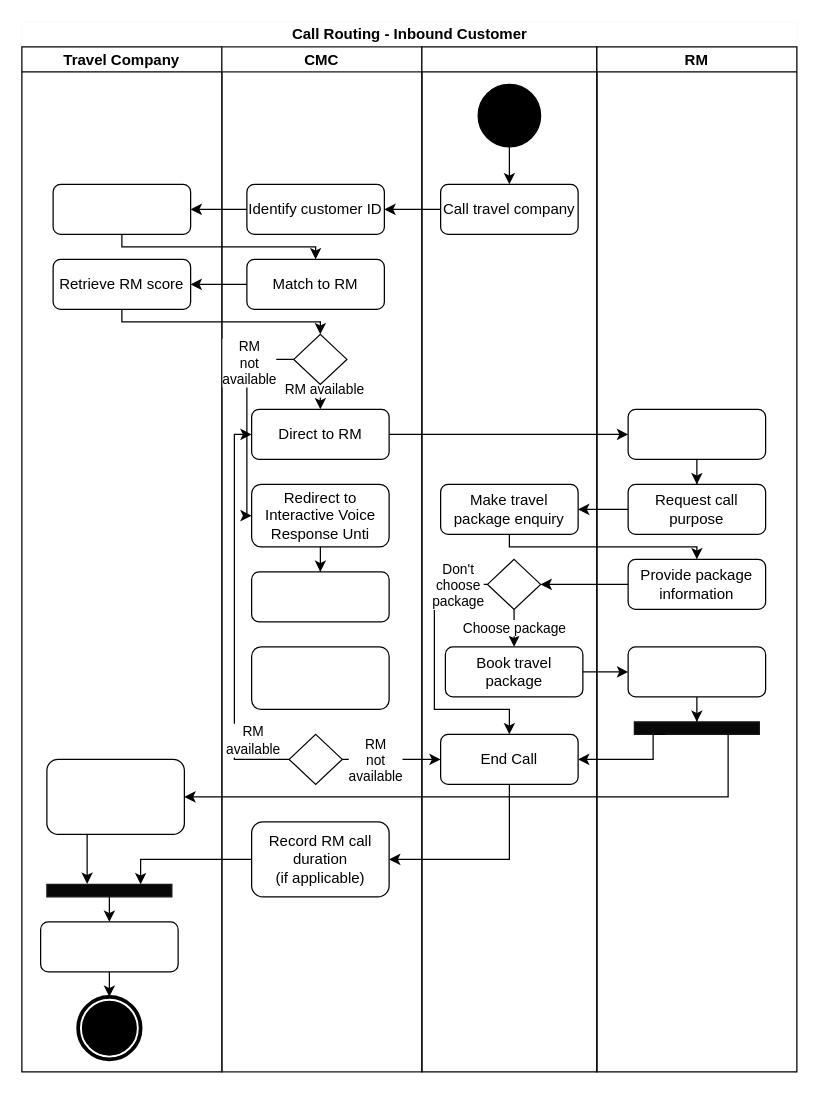
This 819x1094 diagram has some shape labels left out. The box of each missing label's shape, as (x1, y1, x2, y2) in pixels:
Adjust profile scores: (39, 921, 178, 972)
Inbound Customer: (421, 46, 597, 1072)
Log booking: (627, 646, 766, 697)
Prompt user for options/call reason: (250, 571, 389, 622)
Receive inbound call: (627, 408, 766, 459)
Record booking in database (if applicable): (46, 758, 184, 834)
Redirect to Automatic Call Distributor: (250, 646, 389, 709)
Retrieve customer score: (52, 183, 191, 234)
